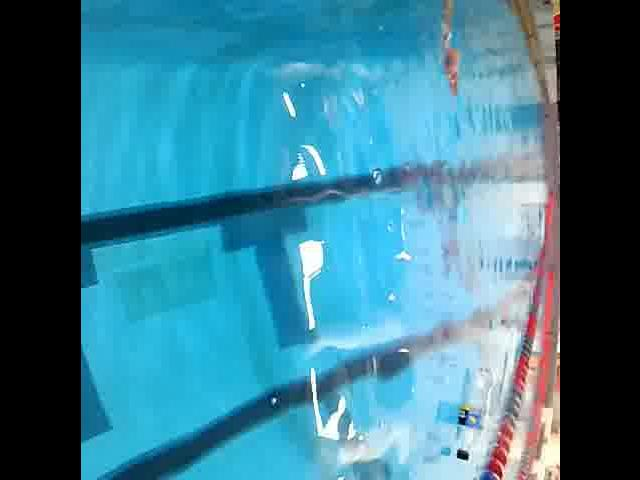Bottle: (447, 361, 497, 474)
